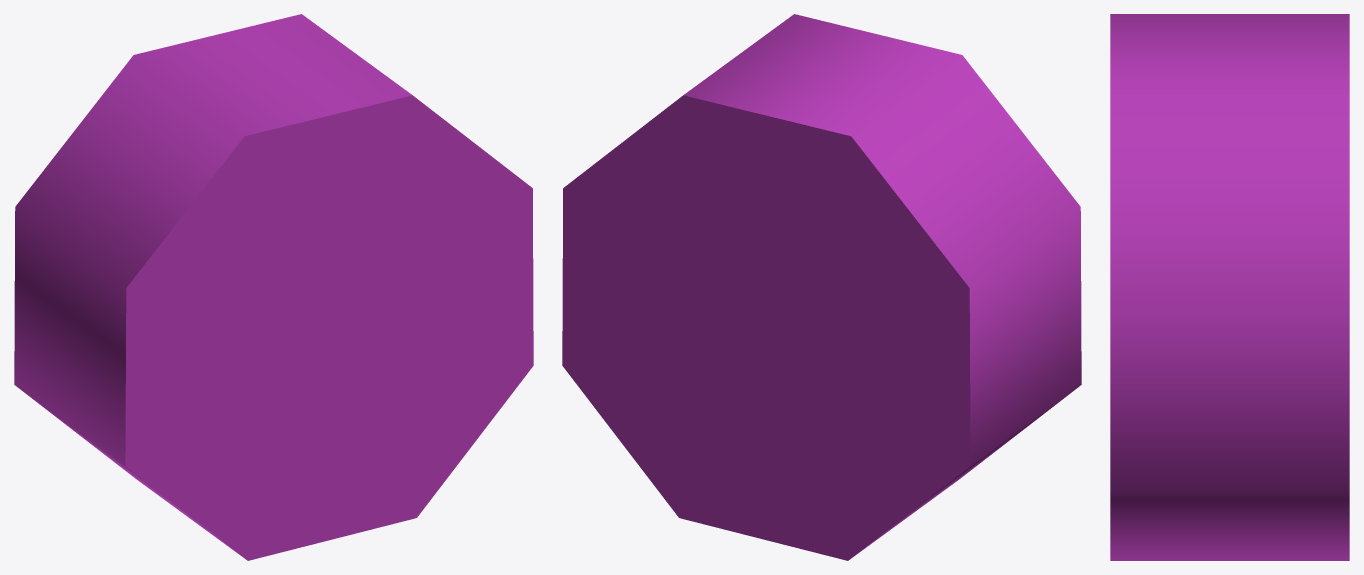
The model's file is pergunta9.glb.
The picture shows the model from 3 angles, left to right: view 1: azimuth 30°, elevation 25°; view 2: azimuth 150°, elevation 25°; view 3: azimuth 270°, elevation 25°; orthographic projection. The views are drawn at different scales.
Visible parts, largest first — view 1: mesh_id28; view 2: mesh_id28; view 3: mesh_id28.
Part boxes in pixels (bbox=[...]): mesh_id28: bbox=[14, 14, 533, 560]; mesh_id28: bbox=[562, 14, 1081, 560]; mesh_id28: bbox=[1110, 14, 1349, 560].
Bounding box in the file's own units: 0.4822 × 0.4802 × 0.2273.
Materials: 1 (1 with a texture image).
